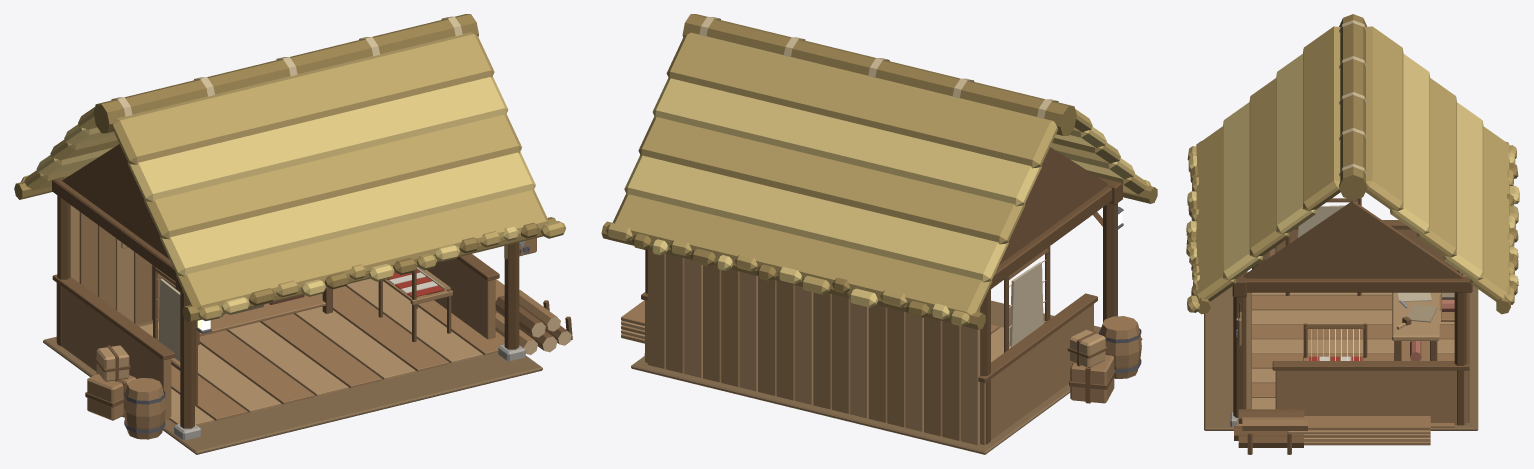
Rendered from shop_workshop.glb.
3 views of the same model, side by side, from view 1: azimuth 30°, elevation 25°; view 2: azimuth 150°, elevation 25°; view 3: azimuth 270°, elevation 25° (orthographic). The views are drawn at different scales.
Visible parts, largest first — view 1: Workshop; view 2: Workshop; view 3: Workshop.
Boxes of the visible parts, bbox=[...] form: Workshop: bbox=[14, 14, 572, 454]; Workshop: bbox=[601, 14, 1157, 454]; Workshop: bbox=[1186, 14, 1519, 454].
Size of the model in its own units: 7.6 by 4.86 by 5.59.
